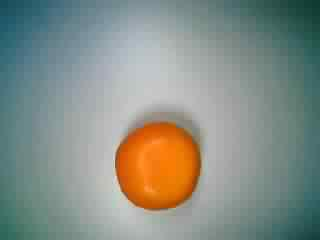orange: (102, 116, 204, 212)
